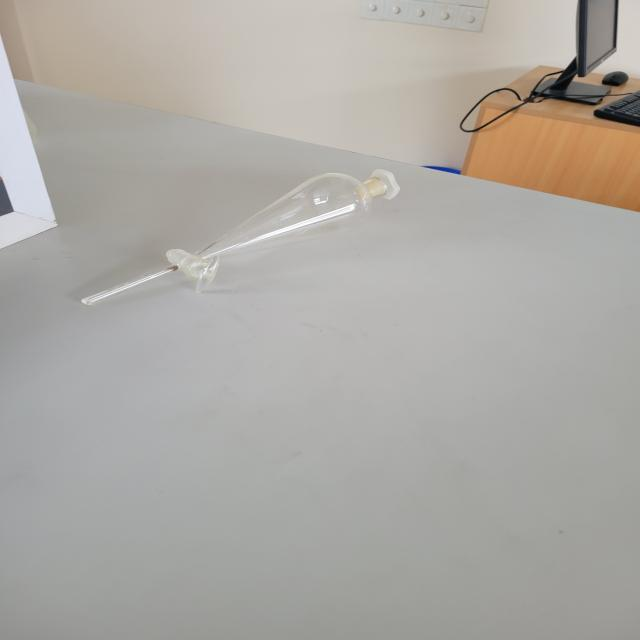Separating_Funnel: (43, 140, 424, 322)
